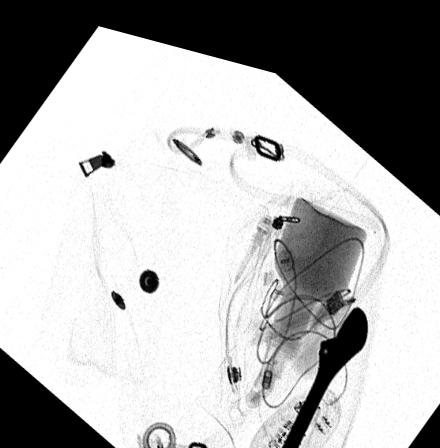Wrench: (272, 288, 367, 448)
